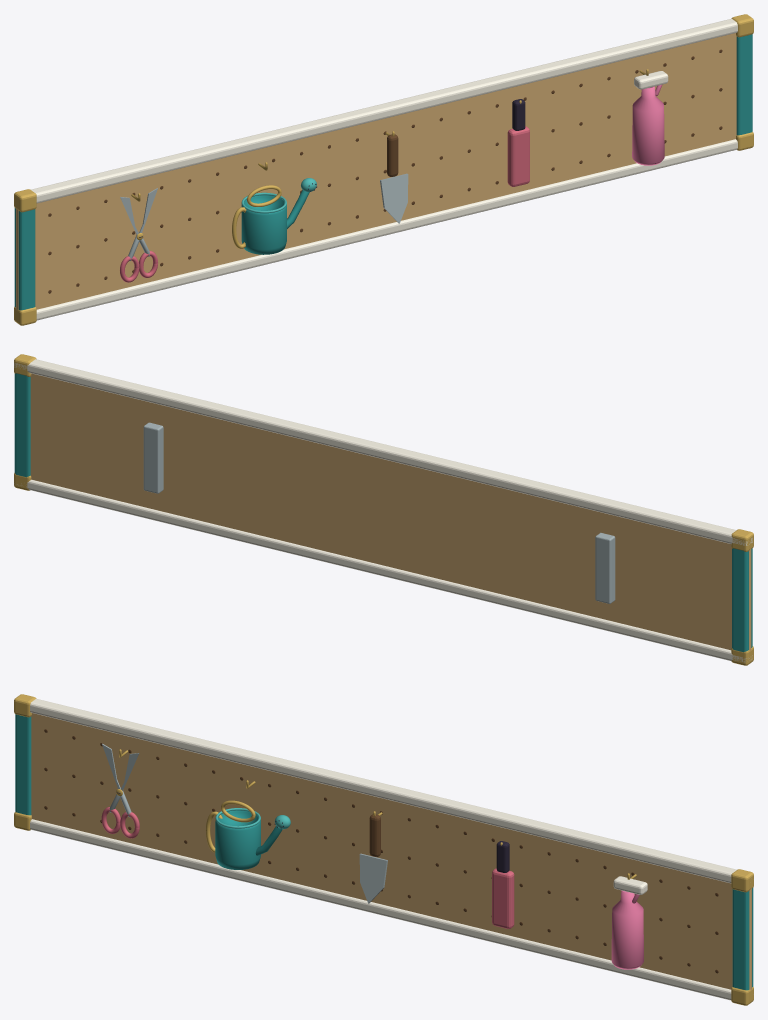
File: florist_pegboard.glb
3 renders of one model, top to bottom at view 1: azimuth 30°, elevation 25°; view 2: azimuth 150°, elevation 25°; view 3: azimuth 330°, elevation 25°, orthographic.
Visible parts, largest first — view 1: Perforated_wood_panel, Ivory_horizontal_frame.001, Ivory_horizontal_frame, Hollow_can_body, Spray_bottle, Teal_vertical_frame, Teal_vertical_frame.001, Knife_sheath, Trowel_blade; view 2: Perforated_wood_panel, Ivory_horizontal_frame.001, Ivory_horizontal_frame, Teal_vertical_frame, Teal_vertical_frame.001, Rear_wall_standoff.001, Rear_wall_standoff; view 3: Perforated_wood_panel, Ivory_horizontal_frame.001, Ivory_horizontal_frame, Hollow_can_body, Spray_bottle, Teal_vertical_frame.001, Teal_vertical_frame, Knife_sheath, Trowel_blade.
Boxes of the visible parts, x1,y1,x2,y2 form: Perforated_wood_panel: (16,33,736,310); Ivory_horizontal_frame.001: (31,18,737,203); Ivory_horizontal_frame: (36,139,737,320); Hollow_can_body: (241,194,286,254); Spray_bottle: (632,86,664,165); Teal_vertical_frame: (14,208,35,310); Teal_vertical_frame.001: (736,34,752,135); Knife_sheath: (507,126,529,186); Trowel_blade: (380,173,408,223); Perforated_wood_panel: (30,373,751,650); Ivory_horizontal_frame.001: (14,359,752,545); Ivory_horizontal_frame: (14,479,752,662); Teal_vertical_frame: (732,548,752,652); Teal_vertical_frame.001: (14,373,30,477); Rear_wall_standoff.001: (143,422,163,493); Rear_wall_standoff: (595,532,615,603); Perforated_wood_panel: (31,713,751,990); Ivory_horizontal_frame.001: (30,698,736,883); Ivory_horizontal_frame: (30,819,731,1000); Hollow_can_body: (215,809,260,869); Spray_bottle: (611,890,643,969); Teal_vertical_frame.001: (732,888,753,990); Teal_vertical_frame: (15,714,31,815); Knife_sheath: (492,868,514,928); Trowel_blade: (359,853,387,903).
Size of the model in its own units: 2.6 by 0.439 by 0.1945.
